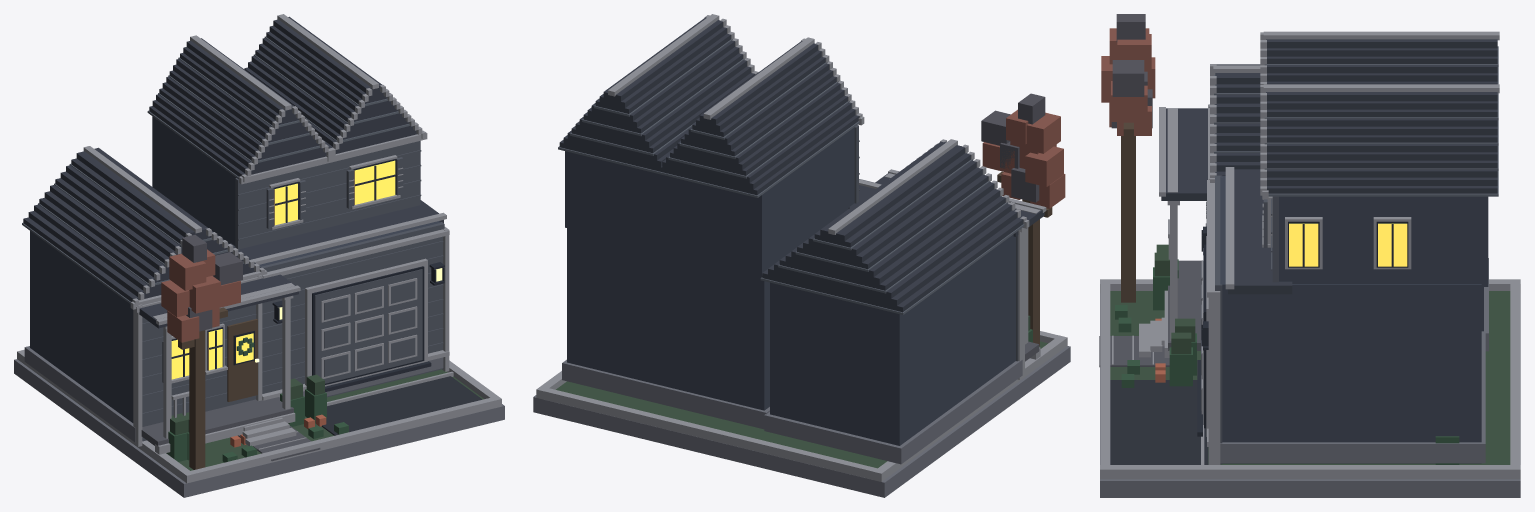
File: suburban_house_8bit.glb
The picture shows the model from 3 angles, left to right: view 1: azimuth 30°, elevation 25°; view 2: azimuth 150°, elevation 25°; view 3: azimuth 270°, elevation 25°; orthographic projection. The views are drawn at different scales.
Visible parts, largest first — view 1: SM_SuburbanHouse_Structure, SM_SuburbanHouse_Roofs, SM_SuburbanHouse_Lot, SM_SuburbanHouse_Foliage, SM_SuburbanHouse_Porch, SM_SuburbanHouse_Details; view 2: SM_SuburbanHouse_Structure, SM_SuburbanHouse_Roofs, SM_SuburbanHouse_Lot, SM_SuburbanHouse_Foliage, SM_SuburbanHouse_Details; view 3: SM_SuburbanHouse_Structure, SM_SuburbanHouse_Roofs, SM_SuburbanHouse_Lot, SM_SuburbanHouse_Foliage, SM_SuburbanHouse_Porch, SM_SuburbanHouse_Details.
Part boxes in pixels (bbox=[...]): SM_SuburbanHouse_Structure: bbox=[24, 116, 449, 446]; SM_SuburbanHouse_Roofs: bbox=[22, 14, 446, 328]; SM_SuburbanHouse_Lot: bbox=[14, 349, 504, 497]; SM_SuburbanHouse_Foliage: bbox=[161, 234, 348, 469]; SM_SuburbanHouse_Porch: bbox=[141, 397, 296, 454]; SM_SuburbanHouse_Details: bbox=[153, 262, 444, 438]; SM_SuburbanHouse_Structure: bbox=[562, 125, 1026, 464]; SM_SuburbanHouse_Roofs: bbox=[558, 14, 1046, 314]; SM_SuburbanHouse_Lot: bbox=[533, 331, 1070, 497]; SM_SuburbanHouse_Foliage: bbox=[981, 93, 1065, 345]; SM_SuburbanHouse_Details: bbox=[884, 173, 1040, 344]; SM_SuburbanHouse_Structure: bbox=[1197, 104, 1488, 464]; SM_SuburbanHouse_Roofs: bbox=[1159, 31, 1499, 294]; SM_SuburbanHouse_Lot: bbox=[1099, 279, 1520, 497]; SM_SuburbanHouse_Foliage: bbox=[1101, 14, 1459, 464]; SM_SuburbanHouse_Porch: bbox=[1139, 260, 1203, 357]; SM_SuburbanHouse_Details: bbox=[1167, 108, 1208, 349].
Size of the model in its own units: 9.89 by 8.73 by 8.91.
